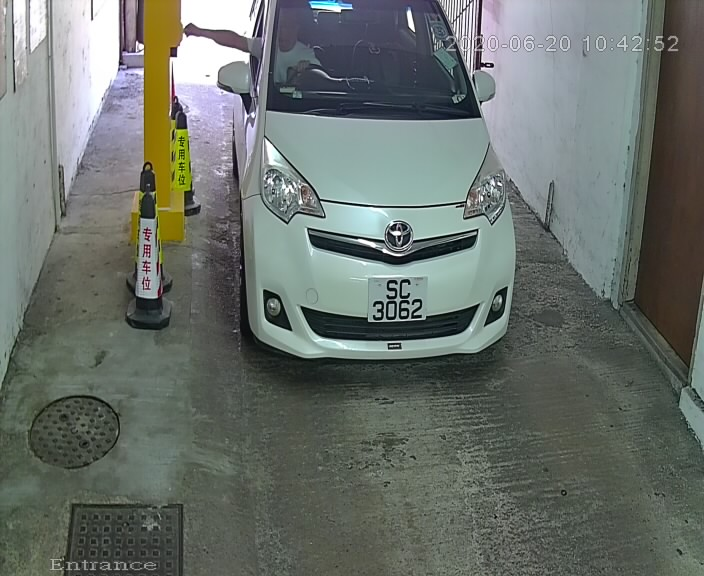privatecar: (212, 3, 524, 373)
